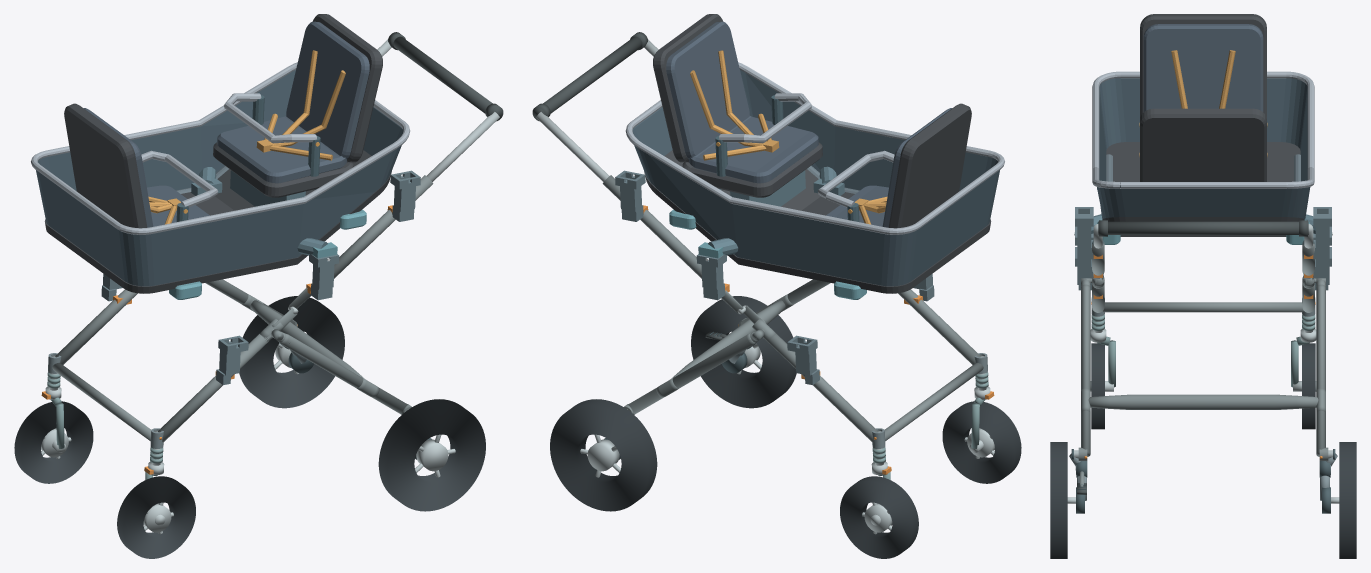
File: S11_w650_state1_wheel_M.glb
3 renders of one model, left to right at view 1: azimuth 30°, elevation 25°; view 2: azimuth 150°, elevation 25°; view 3: azimuth 270°, elevation 25°, orthographic. The views are drawn at different scales.
Parts seen in each view (by area): view 1: S11_Cabin, RL_tire.008, RR_tire.008, FL_tire.008, FR_tire.008, round_handle.008, V46_rear_leg_-1.009, main_lower_-1.009, front_fixed_round_tube.008, main_upper_-1.009, main_lower_1.009, Universal_Cabin_Receiver_H_-1 (+6 smaller); view 2: S11_Cabin, RR_tire.008, RL_tire.008, FR_tire.008, FL_tire.008, round_handle.008, V46_rear_leg_1.009, main_lower_1.009, front_fixed_round_tube.008, main_upper_1.009, main_lower_-1.009, Universal_Cabin_Receiver_H_1 (+6 smaller); view 3: S11_Cabin, V46_rearbar.009, round_handle.008, front_fixed_round_tube.008, RL_tire.008, RR_tire.008, V46_rear_leg_1.009, V46_rear_leg_-1.009, FL_tire.008, FR_tire.008, Universal_Cabin_Receiver_H_1, Universal_Cabin_Receiver_H_-1 (+2 smaller).
Part boxes in pixels (x1,y1,x2,y2): S11_Cabin: (31,14,410,299); RL_tire.008: (378,399,485,511); RR_tire.008: (239,296,344,408); FL_tire.008: (117,476,195,558); FR_tire.008: (14,401,93,483); round_handle.008: (393,36,502,119); V46_rear_leg_-1.009: (280,333,407,414); main_lower_-1.009: (158,334,271,442); front_fixed_round_tube.008: (52,362,151,440); main_upper_-1.009: (311,175,433,284); main_lower_1.009: (55,289,137,364); Universal_Cabin_Receiver_H_-1: (390,170,420,221); S11_Cabin: (625,14,1004,299); RR_tire.008: (550,399,657,511); RL_tire.008: (691,296,796,408); FR_tire.008: (840,476,918,558); FL_tire.008: (942,401,1021,483); round_handle.008: (533,36,642,119); V46_rear_leg_1.009: (628,333,755,414); main_lower_1.009: (764,334,877,442); front_fixed_round_tube.008: (884,362,983,440); main_upper_1.009: (602,175,724,284); main_lower_-1.009: (898,289,980,364); Universal_Cabin_Receiver_H_1: (615,170,645,221); S11_Cabin: (1092,14,1314,244); V46_rearbar.009: (1088,394,1318,409); round_handle.008: (1098,221,1308,234); front_fixed_round_tube.008: (1103,302,1303,312); RL_tire.008: (1050,442,1067,558); RR_tire.008: (1339,442,1356,558); V46_rear_leg_1.009: (1316,284,1325,456); V46_rear_leg_-1.009: (1081,284,1090,456); FL_tire.008: (1091,343,1104,429); FR_tire.008: (1302,343,1315,429); Universal_Cabin_Receiver_H_1: (1313,207,1331,259); Universal_Cabin_Receiver_H_-1: (1075,207,1093,259).
Bounding box in the file's own units: 1.16 × 1.24 × 0.7871.
